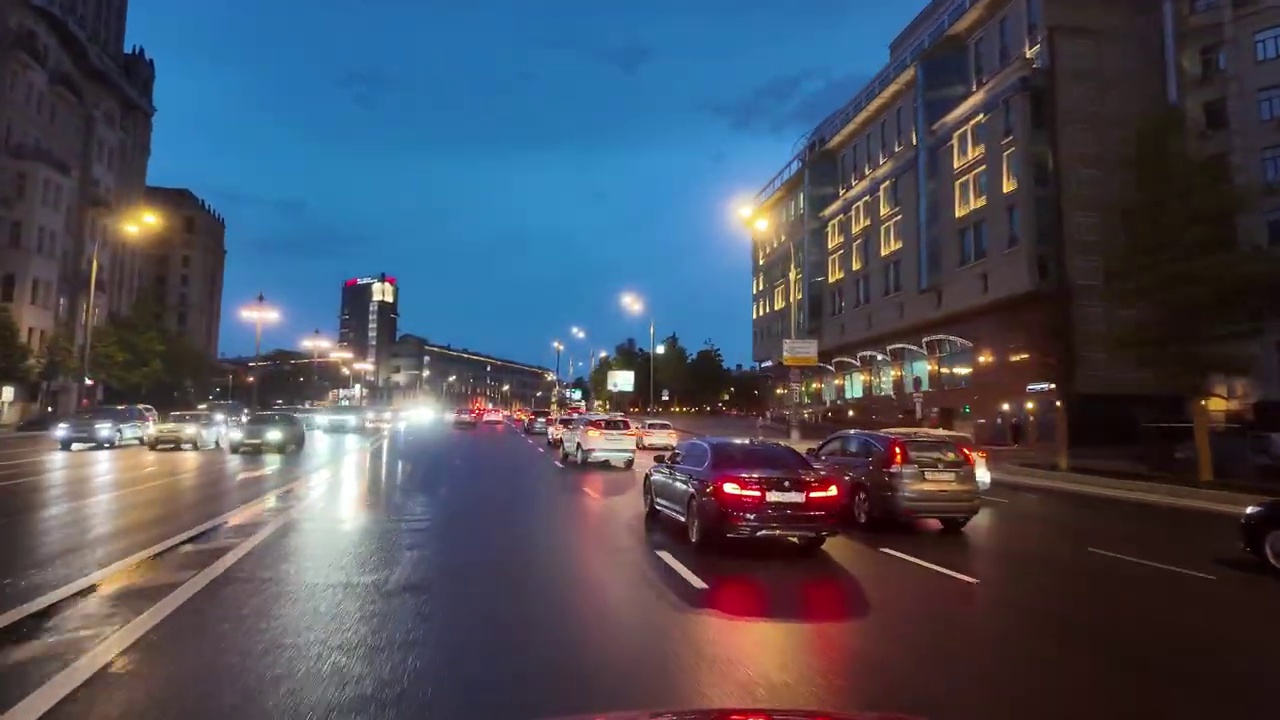acesa: (118, 207, 165, 244), (737, 199, 779, 240), (241, 300, 279, 327), (620, 290, 645, 314)
